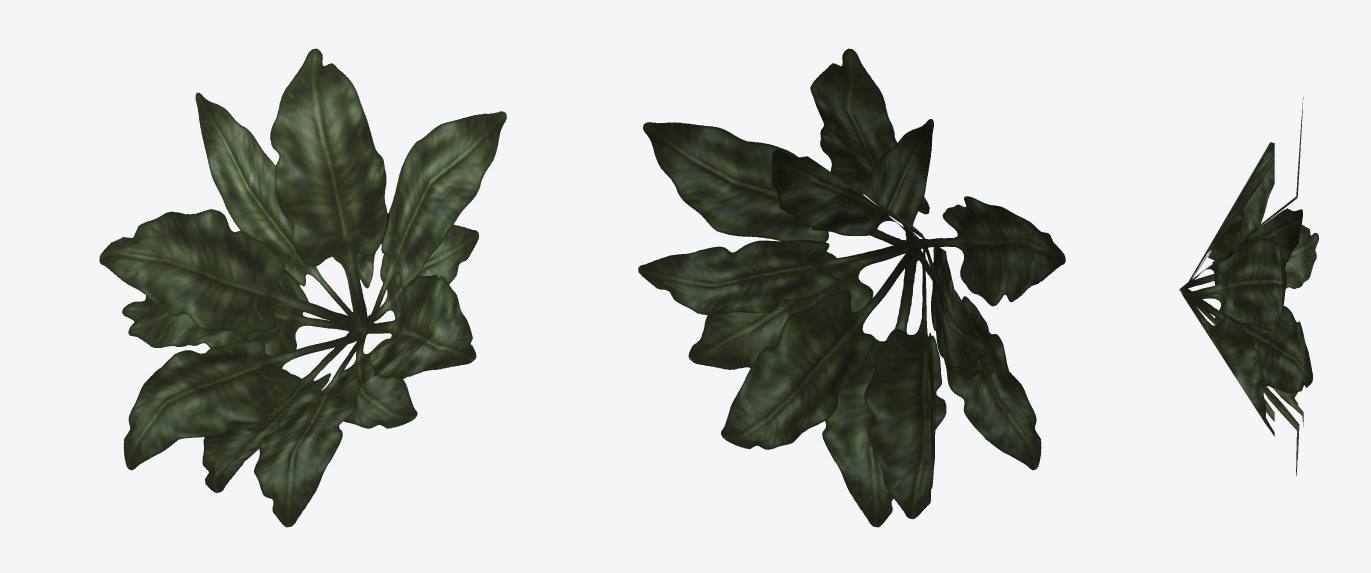
The model's file is Weed_02_b_01.fbx.
3 views of the same model, side by side, from view 1: azimuth 30°, elevation 25°; view 2: azimuth 150°, elevation 25°; view 3: azimuth 270°, elevation 25° (orthographic). The views are drawn at different scales.
Parts seen in each view (by area): view 1: Weed_02_b_01; view 2: Weed_02_b_01; view 3: Weed_02_b_01.
Boxes of the visible parts, box(x1,y1,x2,y2) form: Weed_02_b_01: box(99, 48, 506, 527); Weed_02_b_01: box(638, 48, 1065, 527); Weed_02_b_01: box(1179, 97, 1318, 476).
Size of the model in its own units: 1.54 by 1.57 by 0.5375.
